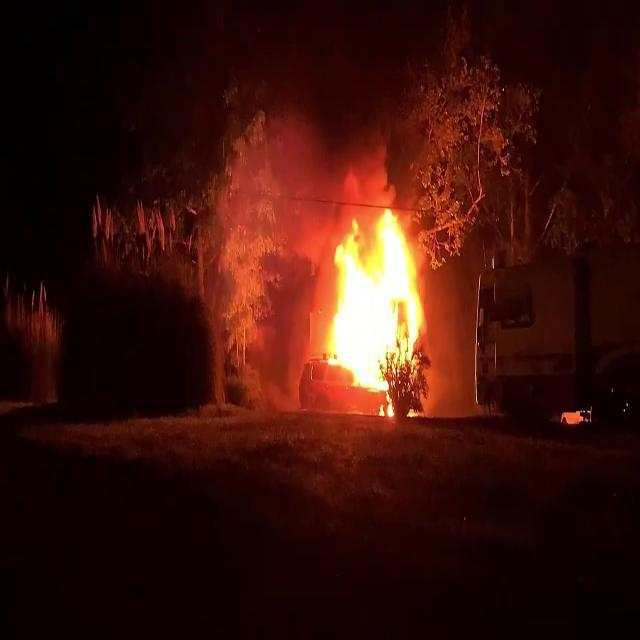Fire: (319, 203, 429, 407)
